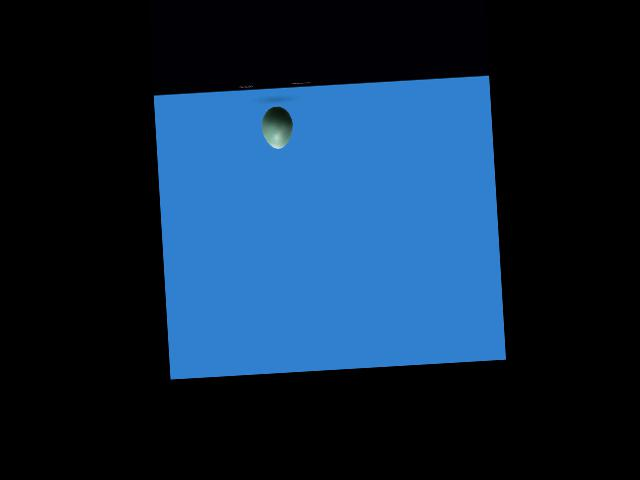egg: (261, 106, 294, 149)
